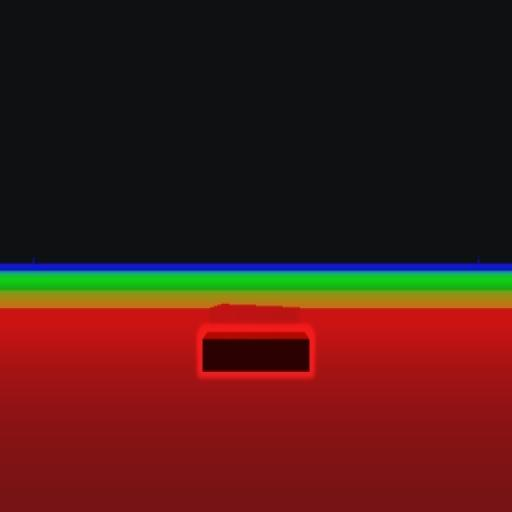debris_container: (199, 322, 313, 375)
